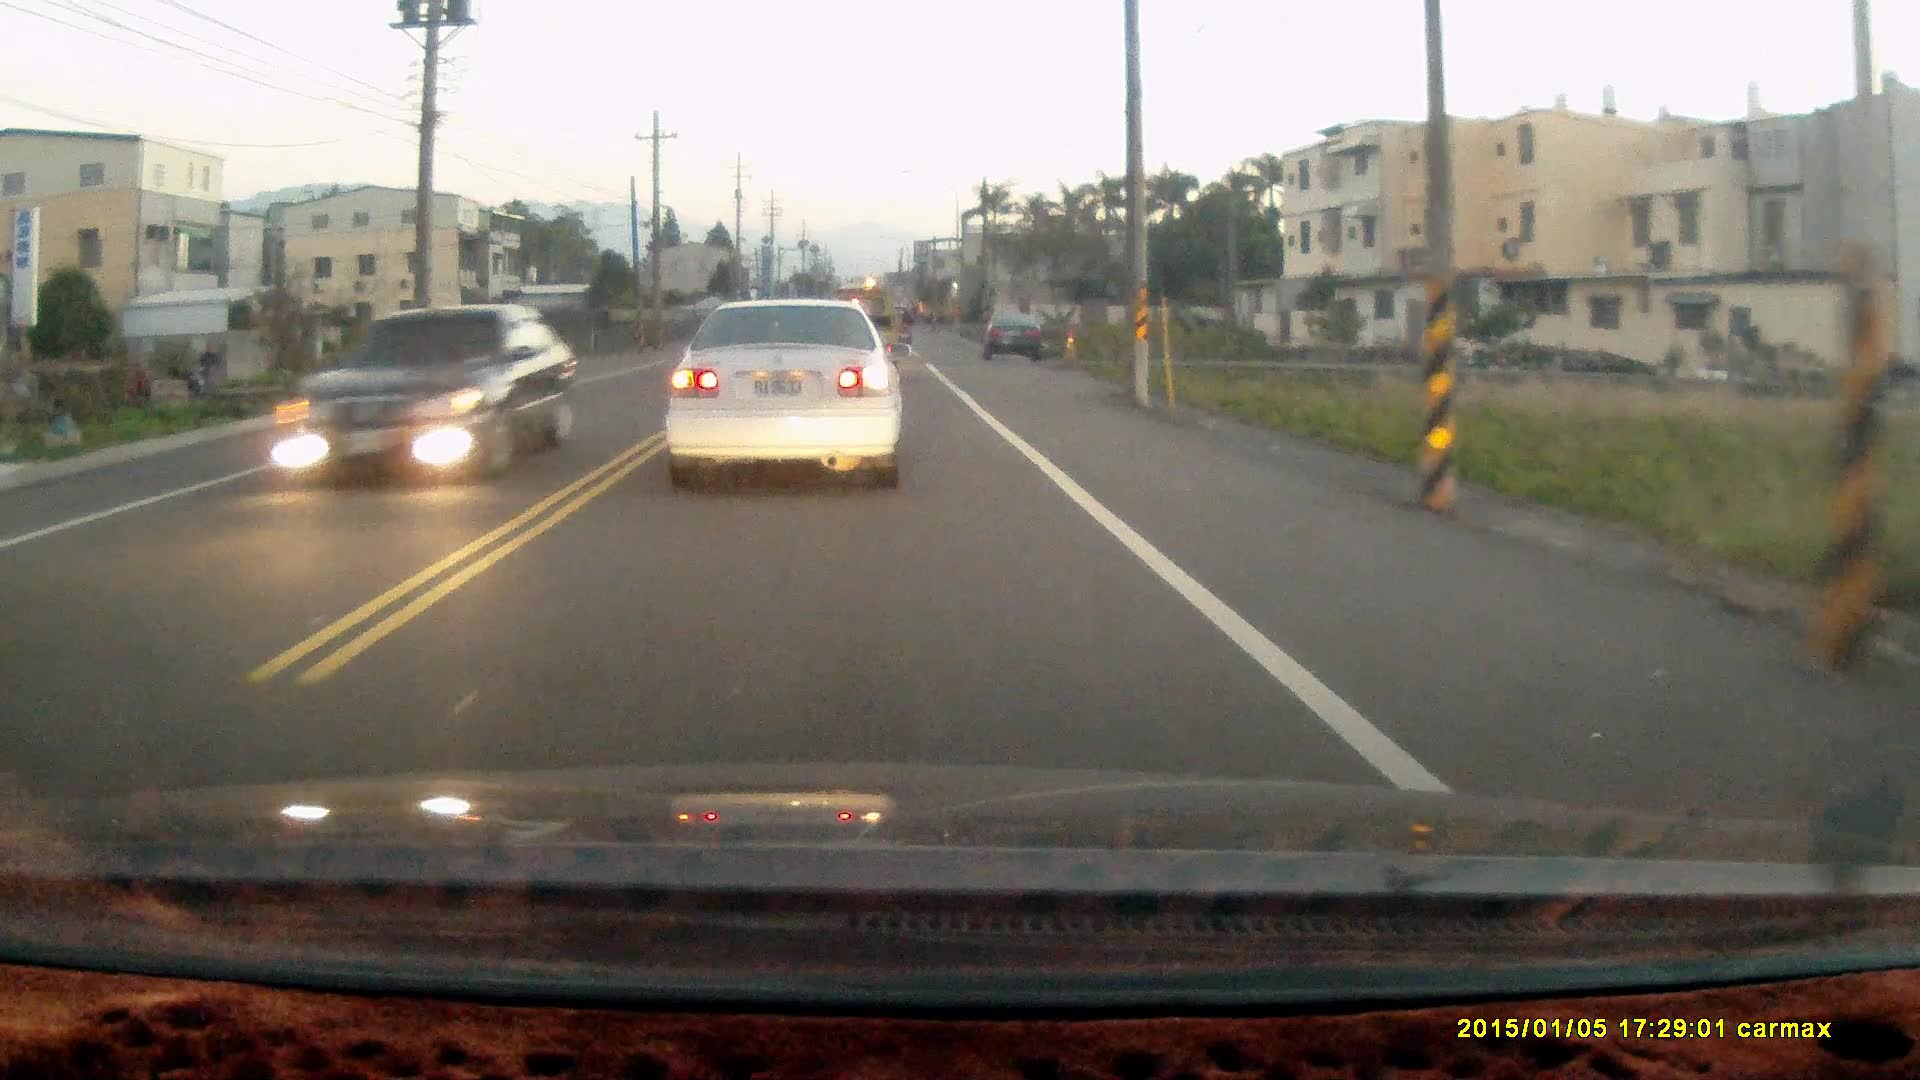pedestrian: (125, 358, 151, 407), (194, 340, 214, 389)
vehicle: (271, 302, 583, 483), (663, 293, 904, 489), (985, 302, 1052, 356)
